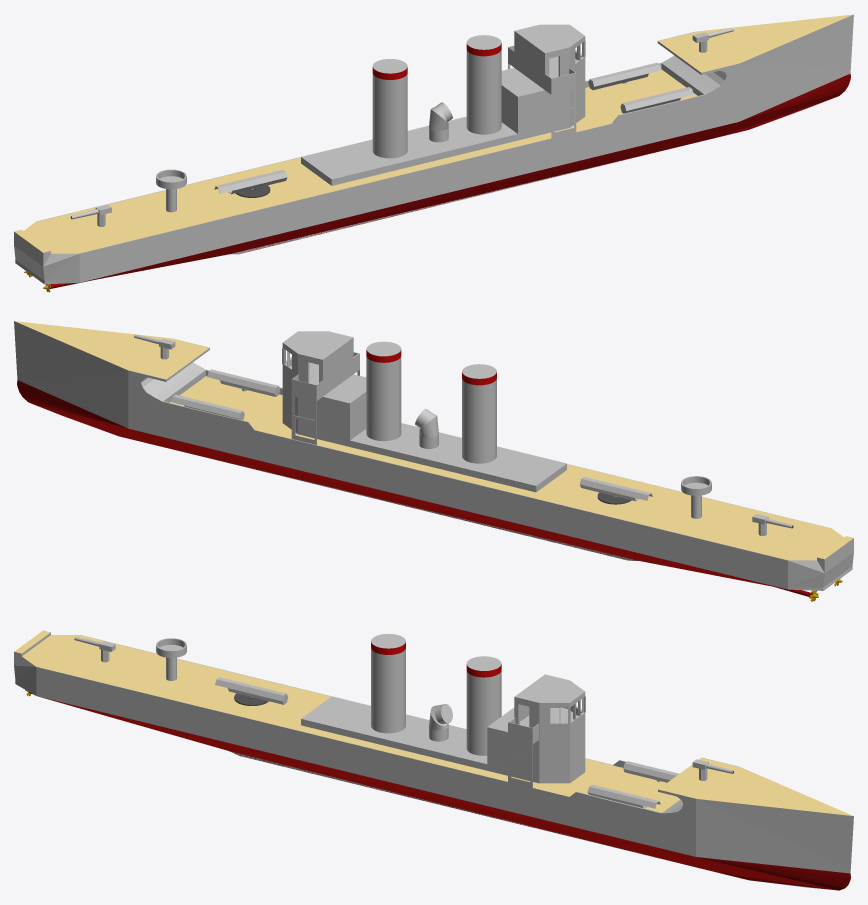
3 renders of one model, top to bottom at view 1: azimuth 30°, elevation 25°; view 2: azimuth 150°, elevation 25°; view 3: azimuth 330°, elevation 25°, orthographic.
Parts seen in each view (by area): view 1: SketchUp_ID3, SketchUp.026_ID173, SketchUp.025_ID167, SketchUp.027_ID179; view 2: SketchUp_ID3, SketchUp.027_ID179, SketchUp.025_ID167, SketchUp.026_ID173; view 3: SketchUp_ID3, SketchUp.025_ID167, SketchUp.027_ID179, SketchUp.026_ID173.
Boxes of the visible parts, x1,y1,x2,y2 form: SketchUp_ID3: (14,14,853,292); SketchUp.026_ID173: (588,62,661,90); SketchUp.025_ID167: (214,169,287,194); SketchUp.027_ID179: (620,87,693,113); SketchUp_ID3: (14,321,853,601); SketchUp.027_ID179: (207,369,280,396); SketchUp.025_ID167: (579,476,652,501); SketchUp.026_ID173: (171,394,244,420); SketchUp_ID3: (14,630,853,890); SketchUp.025_ID167: (215,677,288,704); SketchUp.027_ID179: (587,784,660,808); SketchUp.026_ID173: (623,761,678,782).
Size of the model in its own units: 95.15 by 16.74 by 8.75.
